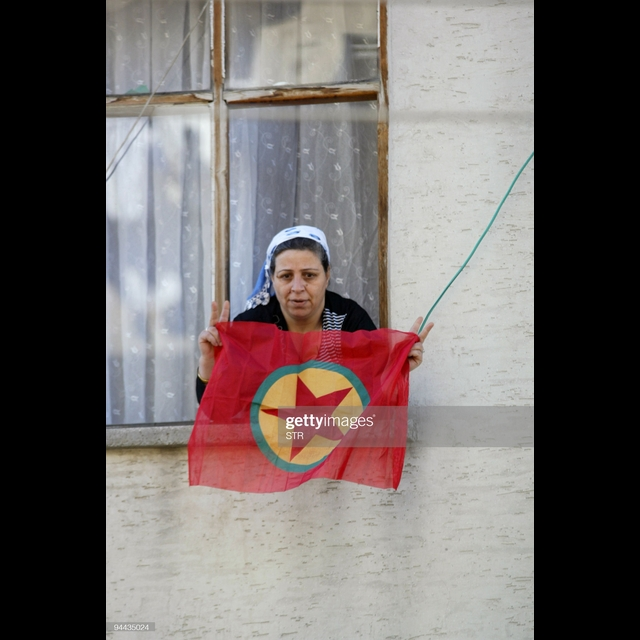PKK: (245, 362, 376, 473)
ZI: (183, 293, 236, 363), (389, 307, 437, 384)
